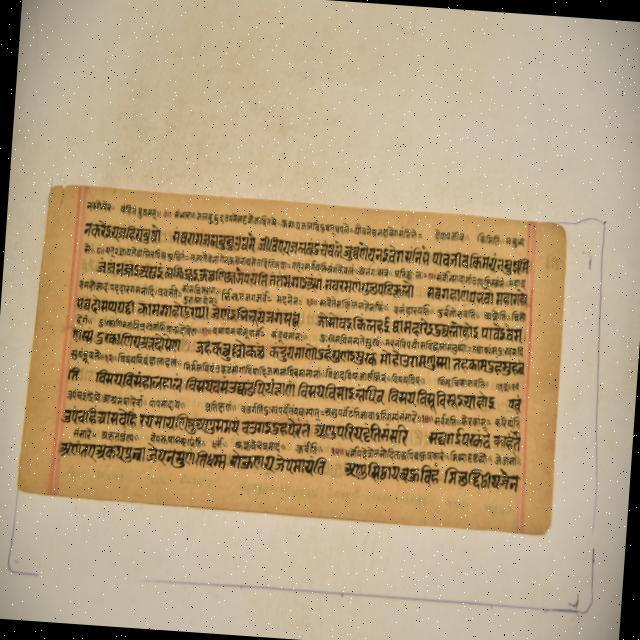text_paragraph: (14, 186, 564, 533)
